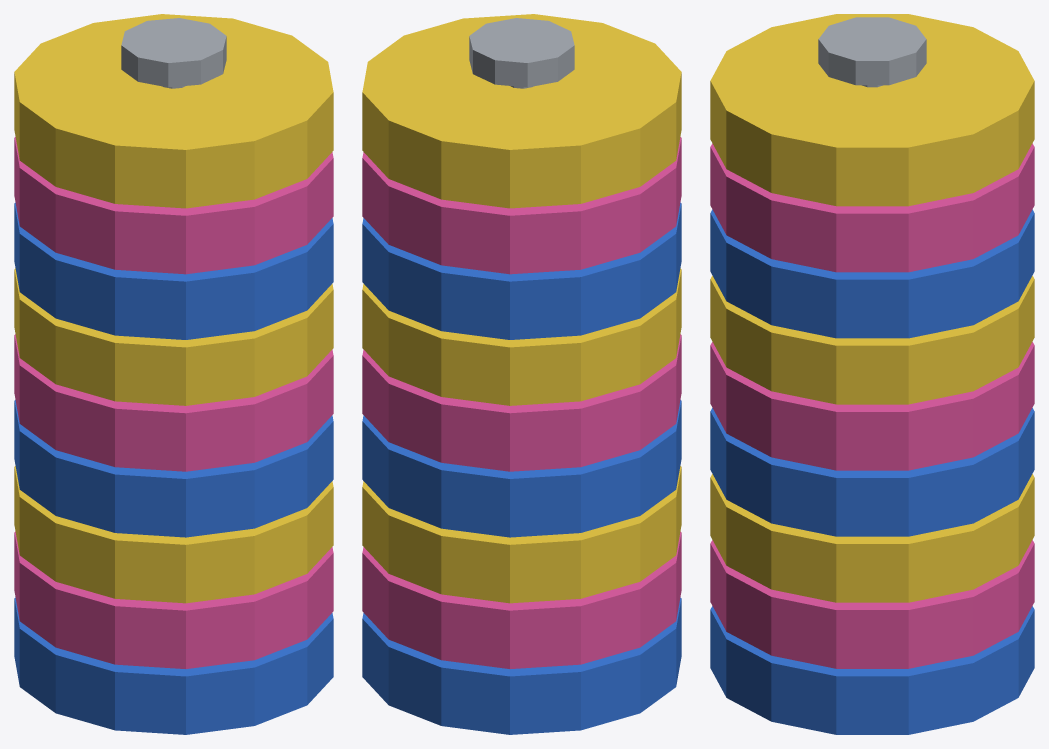
File: wash_brush.glb
3 renders of one model, left to right at view 1: azimuth 30°, elevation 25°; view 2: azimuth 150°, elevation 25°; view 3: azimuth 270°, elevation 25°, orthographic.
Parts seen in each view (by area): view 1: ring_8_brush_yellow, ring_3_brush_blue, ring_5_brush_yellow, ring_4_brush_pink, ring_0_brush_blue, ring_2_brush_yellow, ring_1_brush_pink, ring_7_brush_pink, ring_6_brush_blue, cap_brush_steel; view 2: ring_8_brush_yellow, ring_3_brush_blue, ring_5_brush_yellow, ring_4_brush_pink, ring_0_brush_blue, ring_2_brush_yellow, ring_1_brush_pink, ring_7_brush_pink, ring_6_brush_blue, cap_brush_steel; view 3: ring_8_brush_yellow, ring_4_brush_pink, ring_1_brush_pink, ring_2_brush_yellow, ring_6_brush_blue, ring_3_brush_blue, ring_5_brush_yellow, ring_7_brush_pink, ring_0_brush_blue, cap_brush_steel.
Boxes of the visible parts, box(x1,y1,x2,y2) form: ring_8_brush_yellow: box(14, 14, 333, 208); ring_3_brush_blue: box(14, 400, 333, 537); ring_5_brush_yellow: box(14, 268, 333, 405); ring_4_brush_pink: box(14, 334, 333, 471); ring_0_brush_blue: box(14, 597, 333, 734); ring_2_brush_yellow: box(14, 466, 333, 603); ring_1_brush_pink: box(14, 531, 333, 668); ring_7_brush_pink: box(14, 137, 333, 274); ring_6_brush_blue: box(14, 202, 333, 339); cap_brush_steel: box(121, 18, 226, 87); ring_8_brush_yellow: box(362, 14, 681, 208); ring_3_brush_blue: box(362, 400, 681, 537); ring_5_brush_yellow: box(362, 268, 681, 405); ring_4_brush_pink: box(362, 334, 681, 471); ring_0_brush_blue: box(362, 597, 681, 734); ring_2_brush_yellow: box(362, 466, 681, 603); ring_1_brush_pink: box(362, 531, 681, 668); ring_7_brush_pink: box(362, 137, 681, 274); ring_6_brush_blue: box(362, 202, 681, 339); cap_brush_steel: box(469, 18, 574, 87); ring_8_brush_yellow: box(710, 14, 1034, 206); ring_4_brush_pink: box(710, 342, 1034, 470); ring_1_brush_pink: box(710, 540, 1034, 668); ring_2_brush_yellow: box(710, 474, 1034, 602); ring_6_brush_blue: box(710, 209, 1034, 338); ring_3_brush_blue: box(710, 408, 1034, 536); ring_5_brush_yellow: box(710, 275, 1034, 404); ring_7_brush_pink: box(710, 143, 1034, 272); ring_0_brush_blue: box(710, 606, 1034, 734); cap_brush_steel: box(818, 17, 926, 85).
Size of the model in its own units: 1.17 by 2.7 by 1.2.
